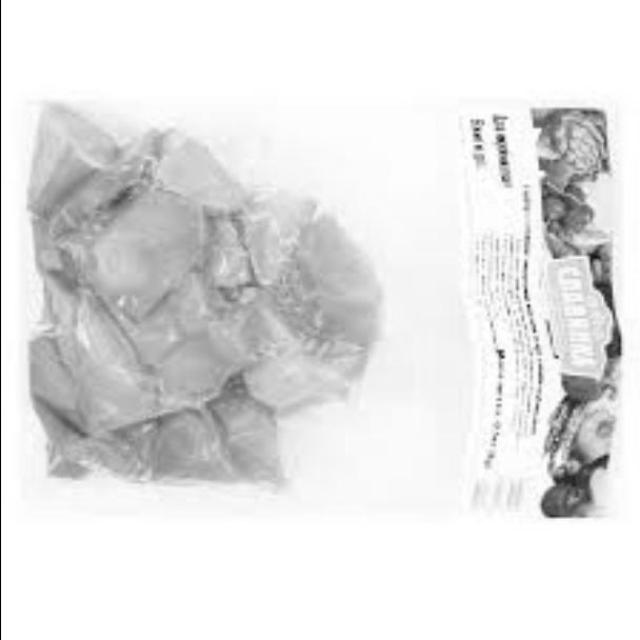pumpkin: (18, 110, 397, 492)
